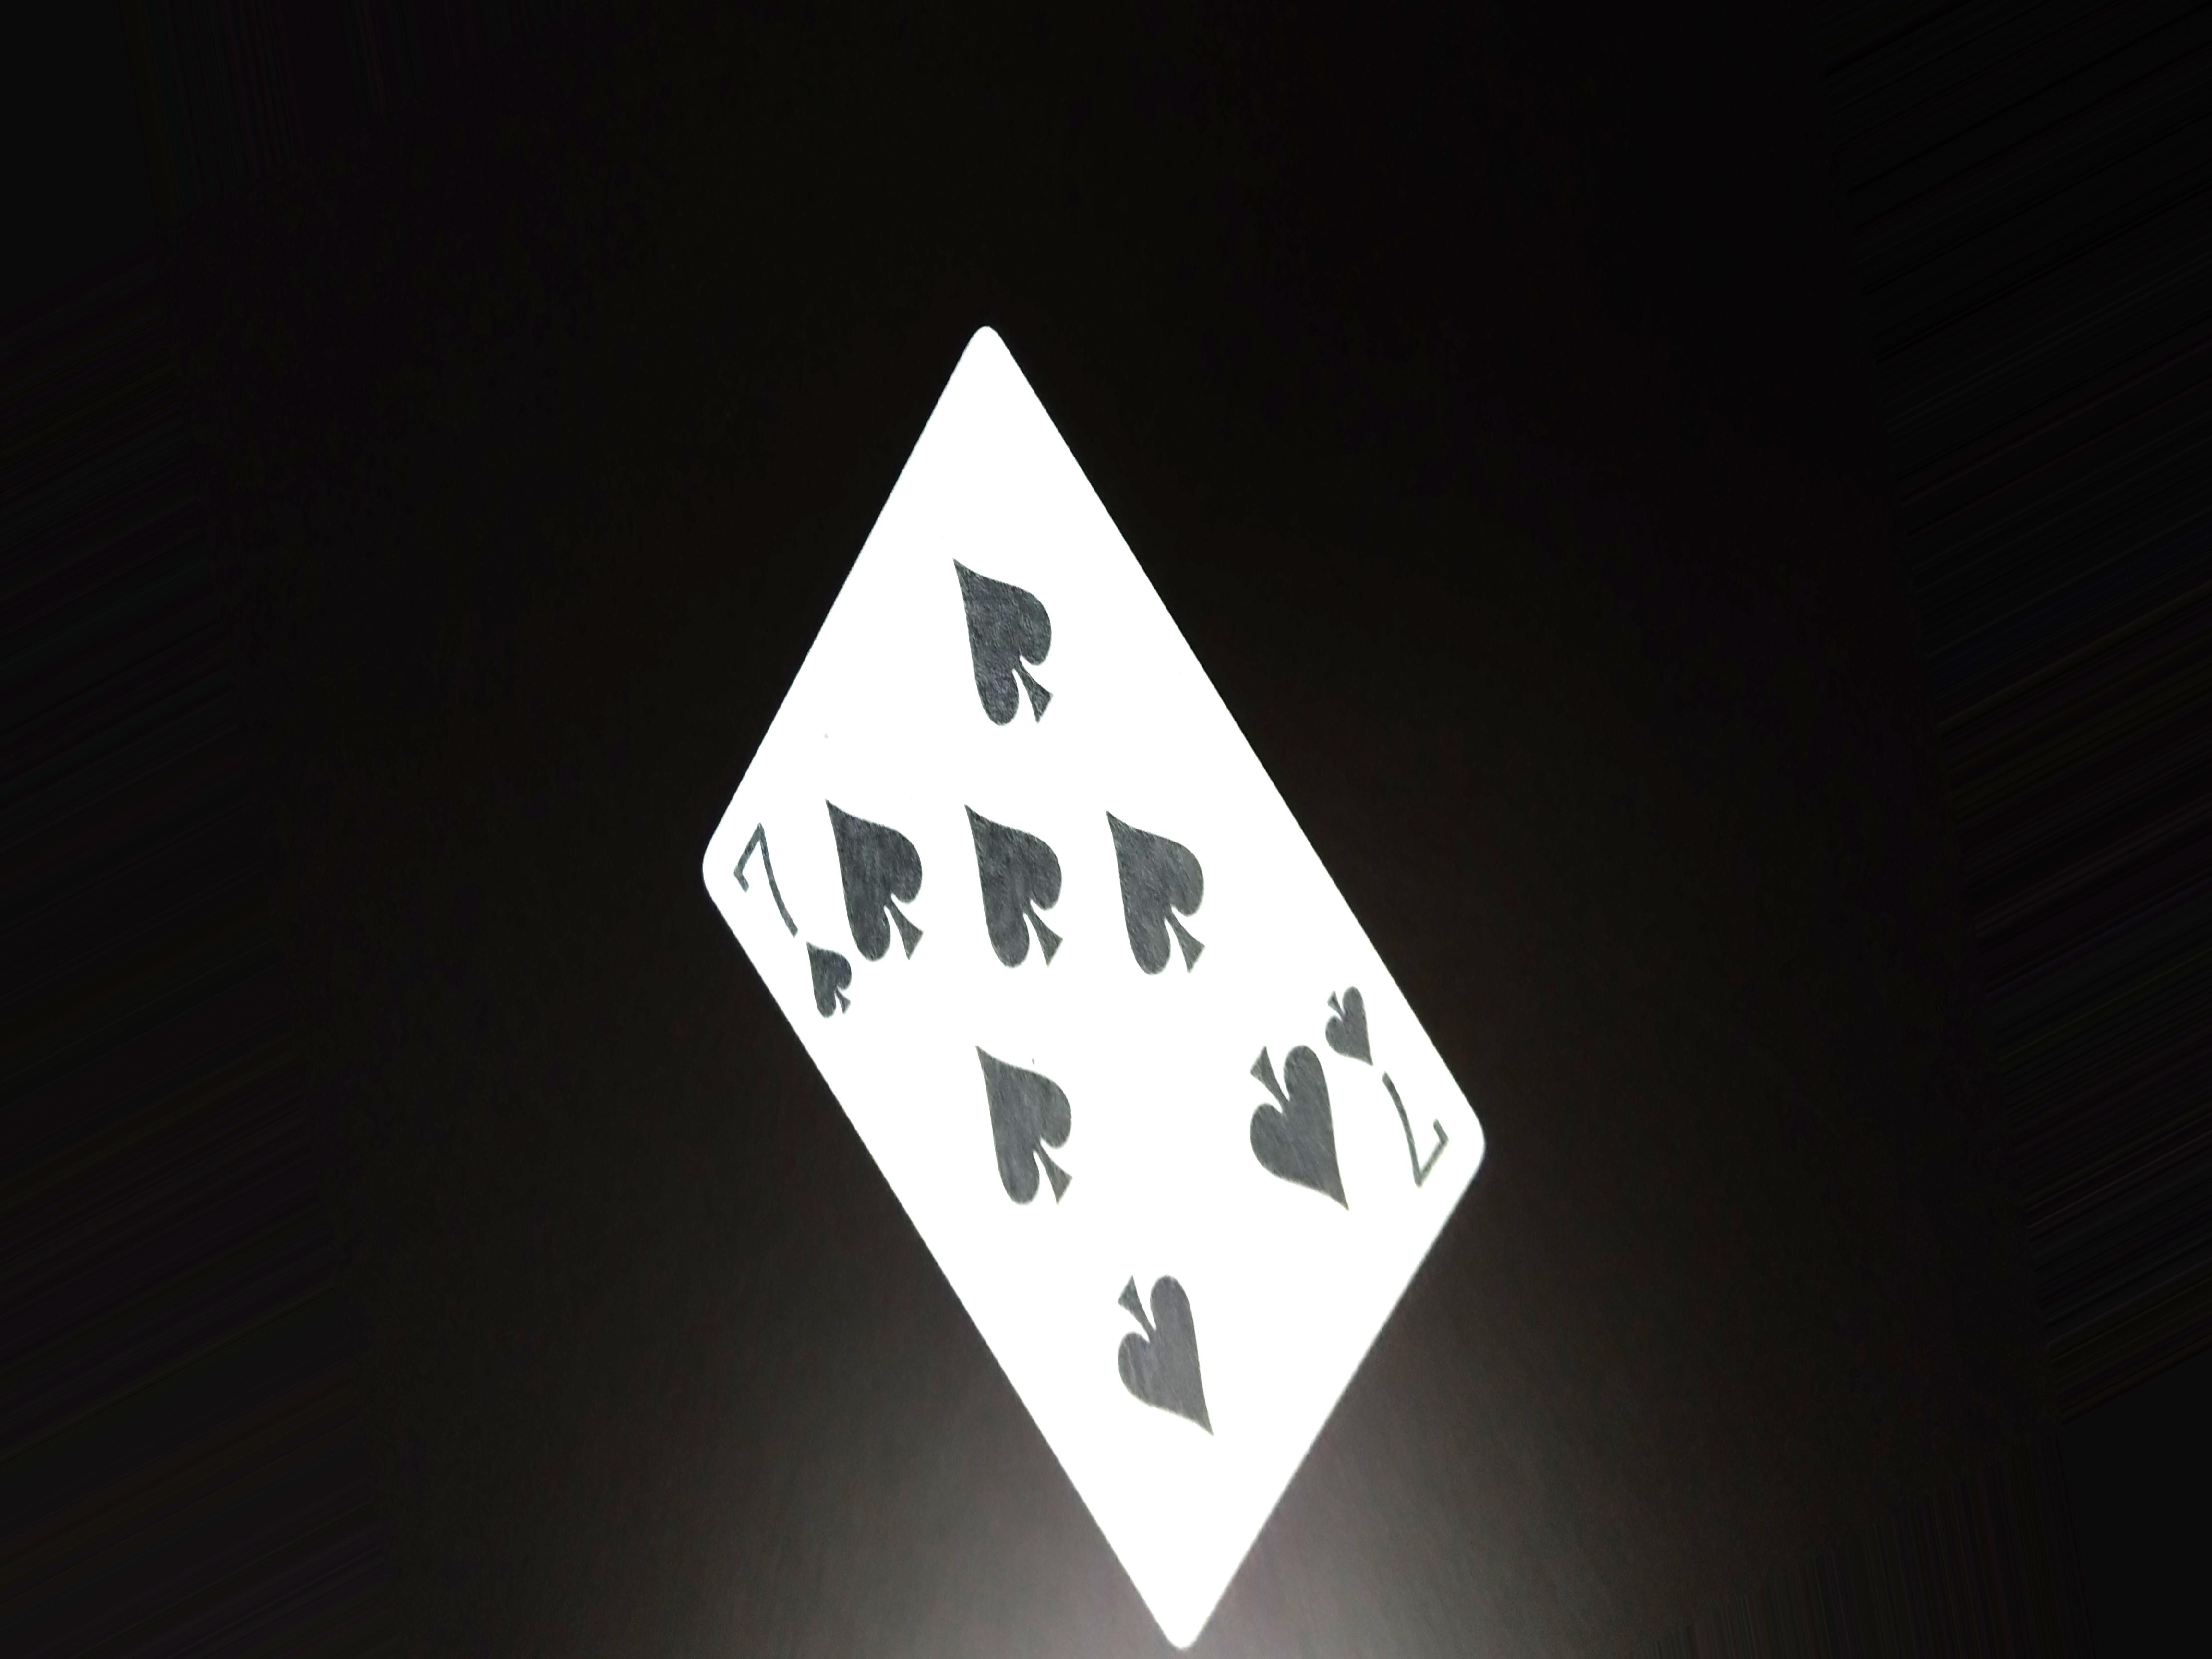7S: (1320, 983, 1449, 1208)
